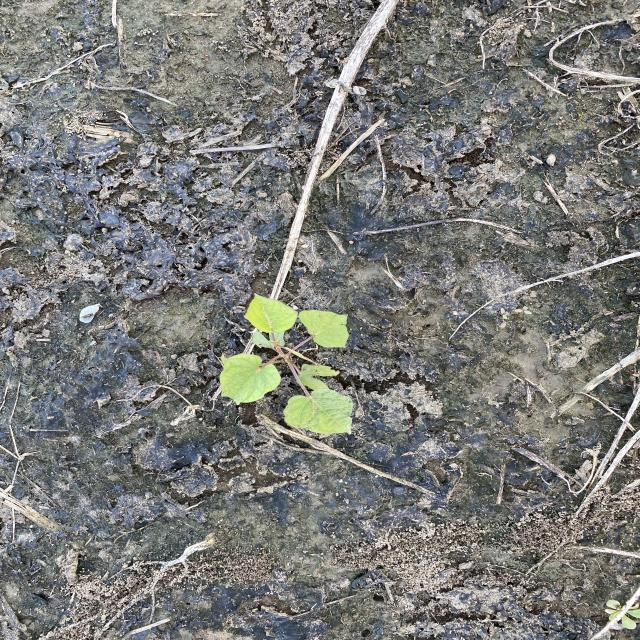MorningGlory: (218, 291, 356, 436)
